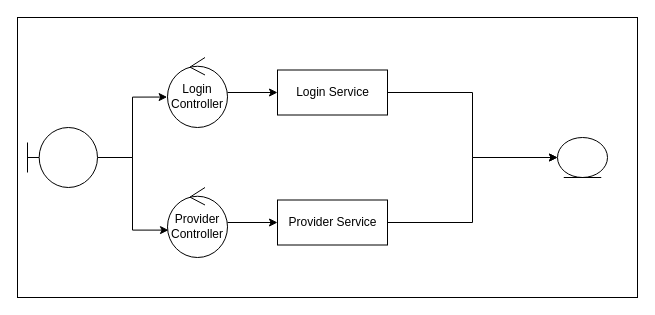
Image size: 655x315. Some labels were removed from this diagram. Each missing label, with the centre of its shape:
"Frontend" belongs at (62,157).
"User" belongs at (582,157).
